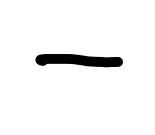minus: (35, 53, 123, 67)
